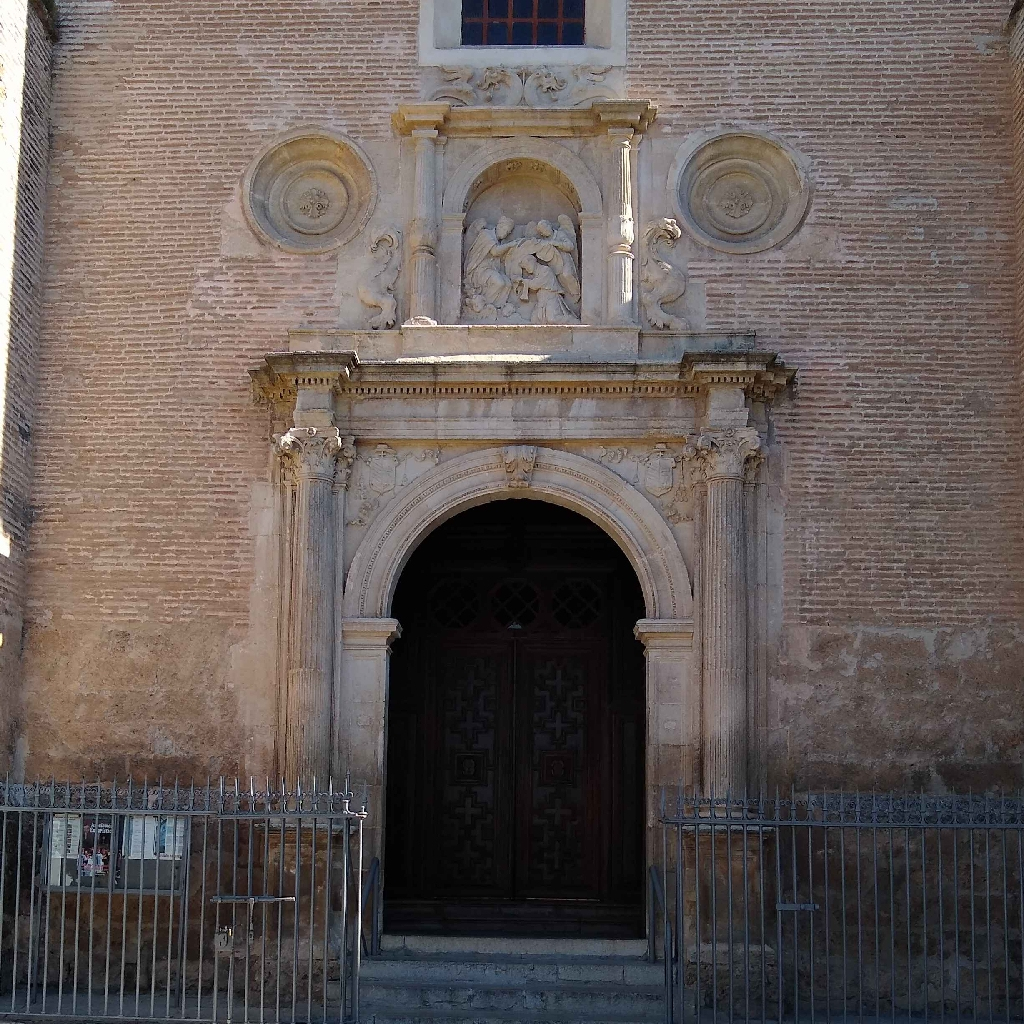arco-medio-punto: (377, 470, 669, 665), (449, 150, 601, 241)
